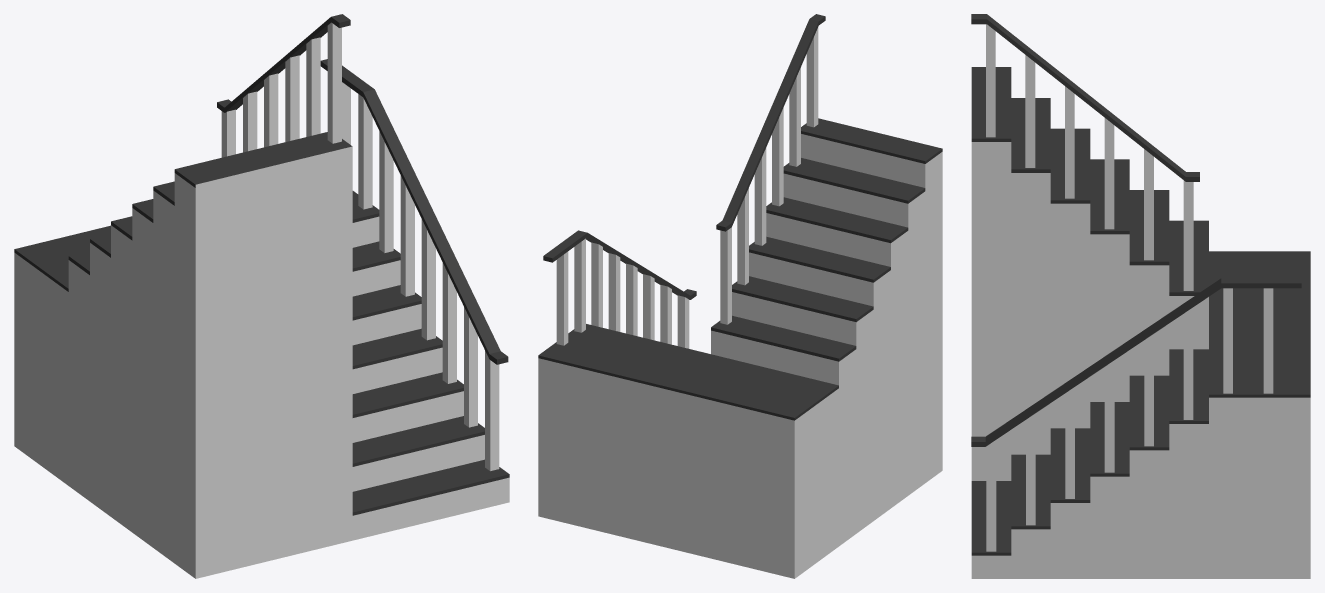
Rendered from Stairs1_C3.fbx.
3 views of the same model, side by side, from view 1: azimuth 30°, elevation 25°; view 2: azimuth 150°, elevation 25°; view 3: azimuth 270°, elevation 25° (orthographic). The views are drawn at different scales.
Parts seen in each view (by area): view 1: Stairs1_C3; view 2: Stairs1_C3; view 3: Stairs1_C3.
Part boxes in pixels (bbox=[...]): Stairs1_C3: bbox=[14, 14, 509, 578]; Stairs1_C3: bbox=[538, 14, 942, 578]; Stairs1_C3: bbox=[971, 14, 1310, 578].
Size of the model in its own units: 250 by 397 by 250.
